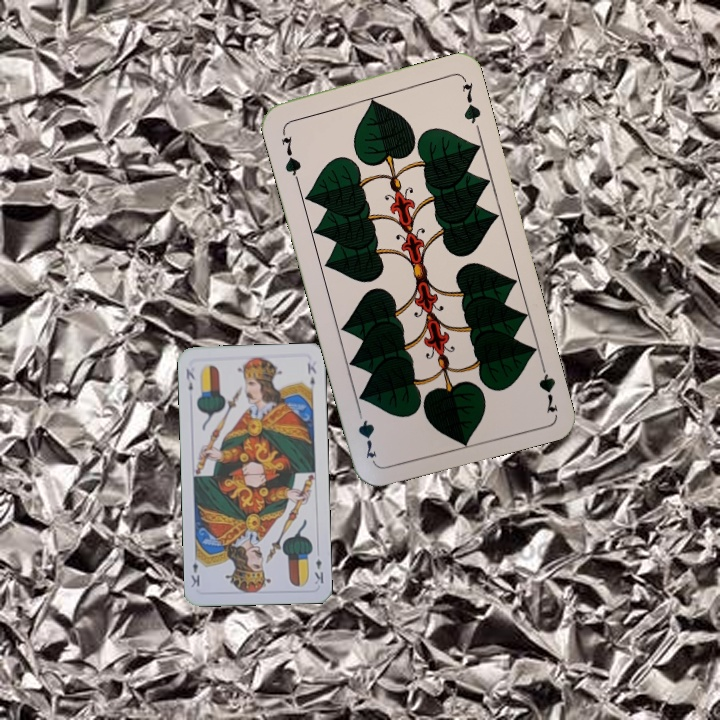EK: (311, 555, 326, 587), (182, 365, 197, 393)
G7: (277, 125, 304, 183), (535, 356, 561, 415)
